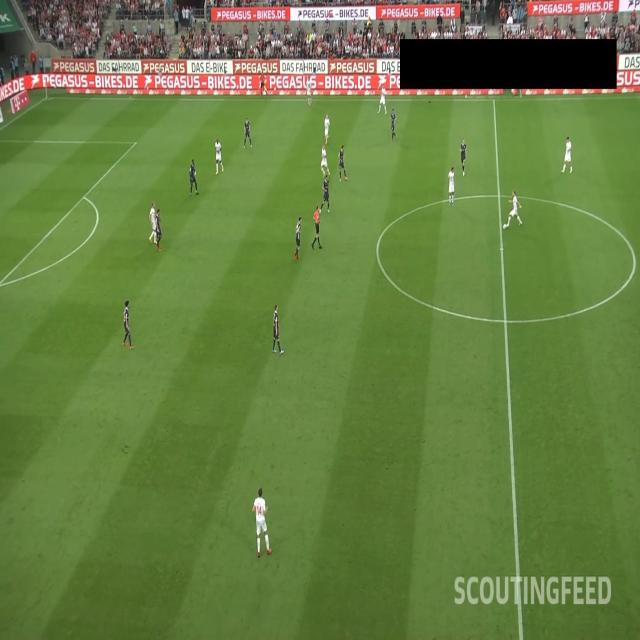ball: (502, 222, 507, 231)
